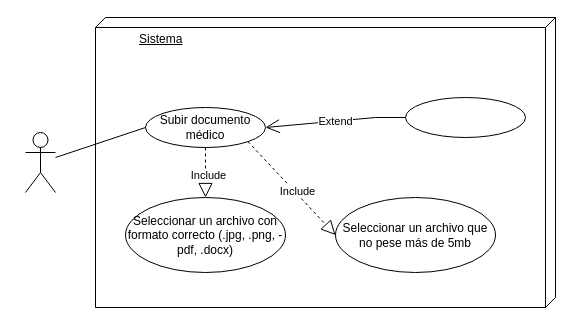
Some shapes in this 573 by 325 pixel diagram are drawn without their labels. The centre of each missing label's shape, as x and y in pixels:
Almacena archivo: pixel 465 117
Paciente: pixel 40 162
